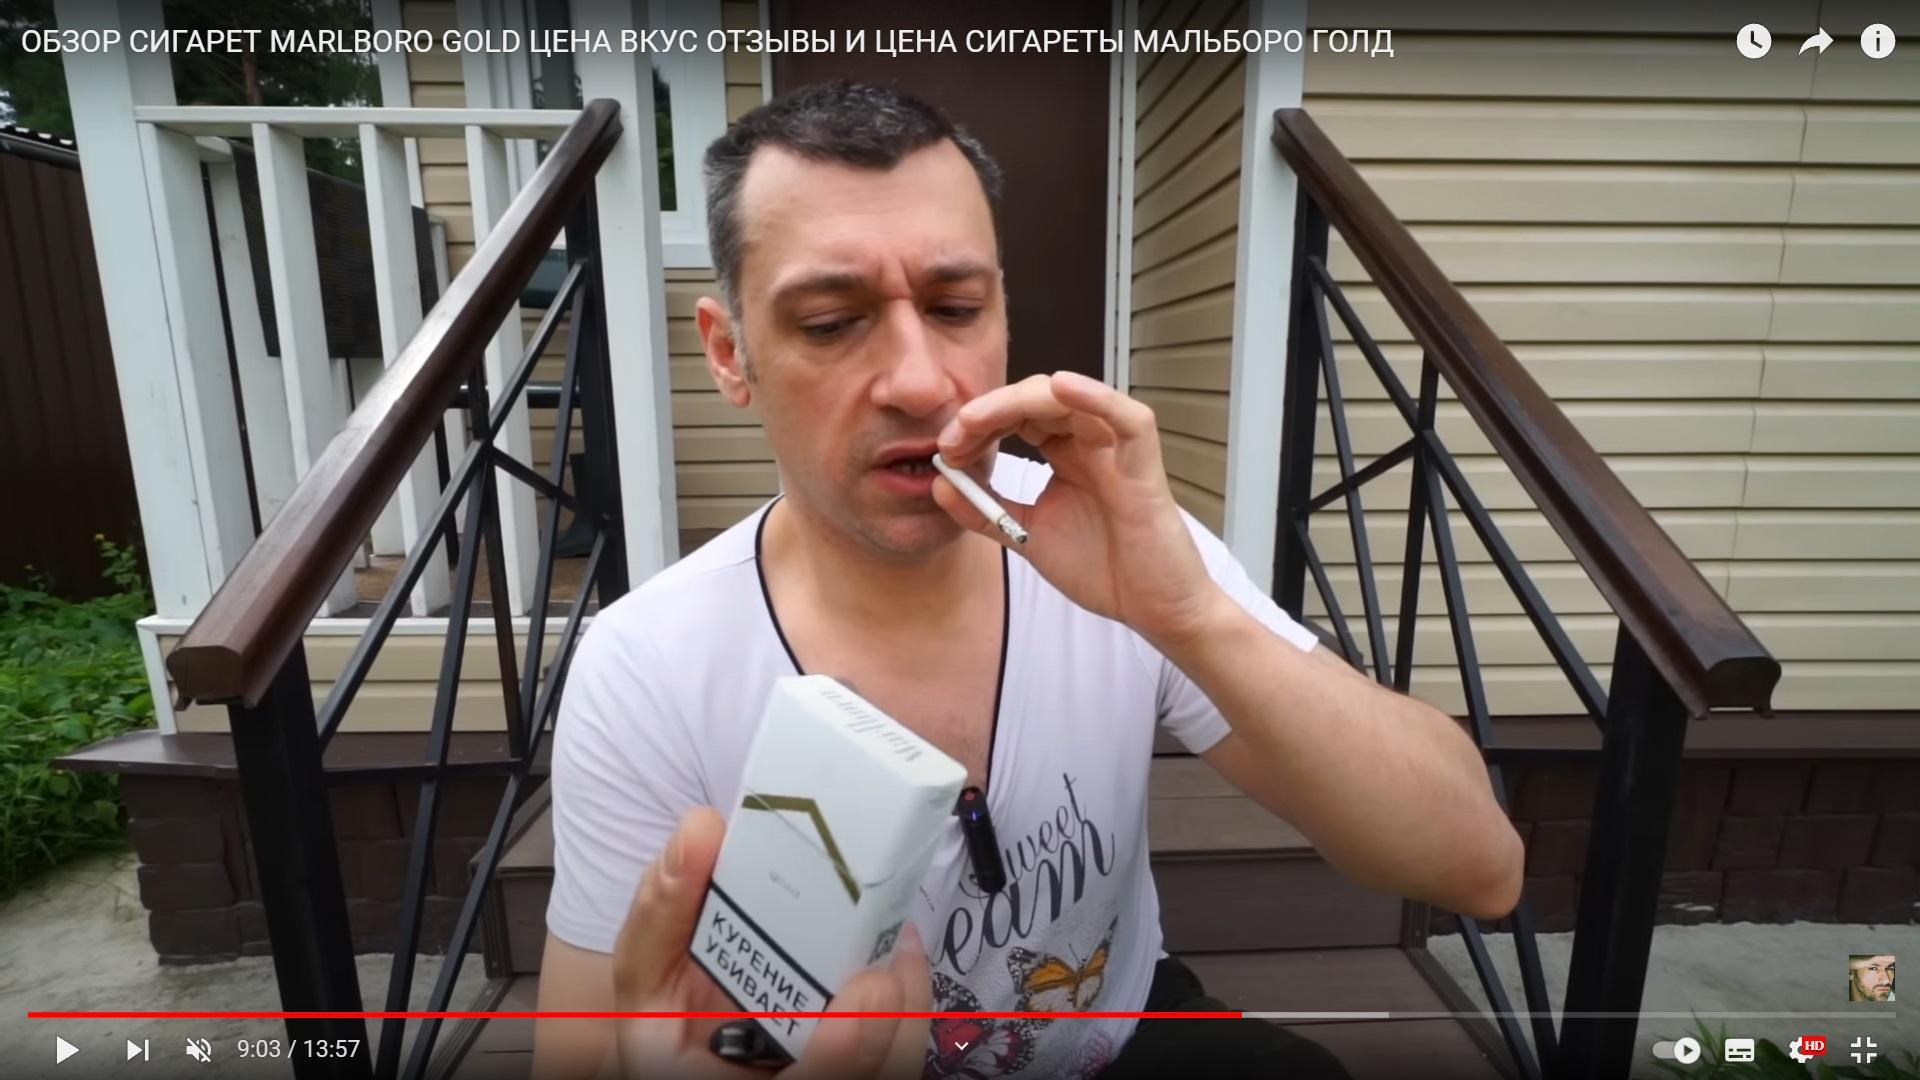cigarette: (930, 454, 1027, 543)
